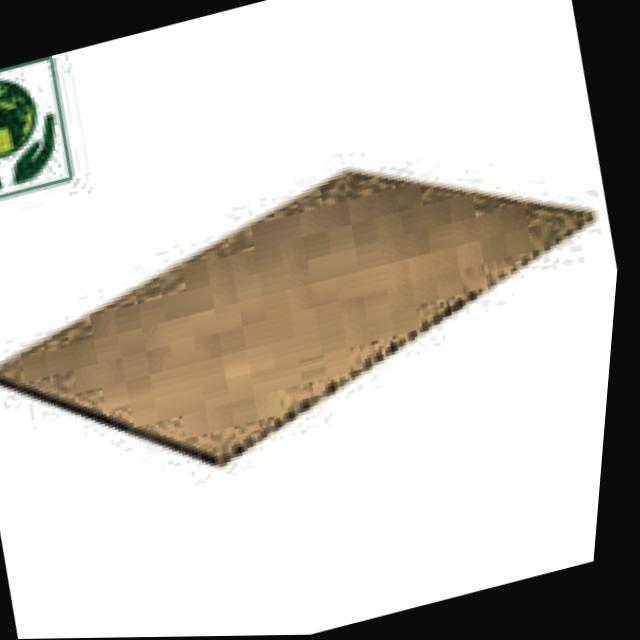Cardbox: (0, 97, 633, 531)
